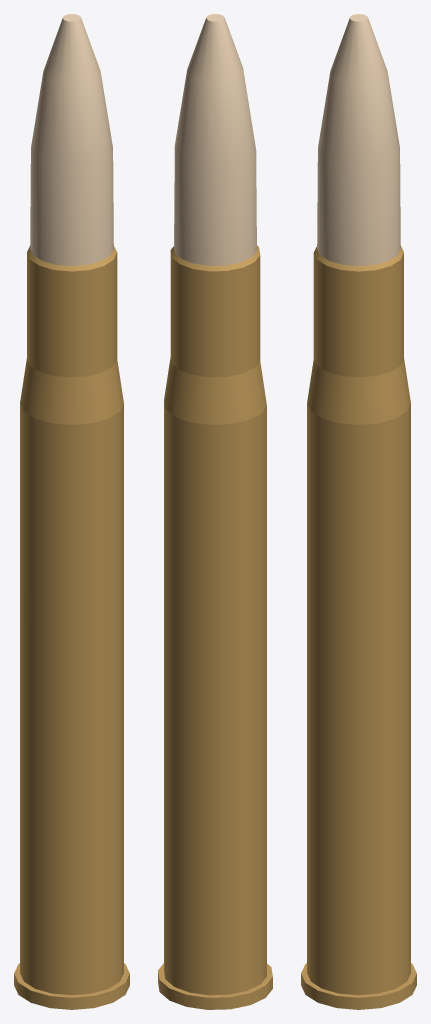
File: SM_Sniper-Round.fbx
3 views of the same model, side by side, from view 1: azimuth 90°, elevation 25°; view 2: azimuth 150°, elevation 25°; view 3: azimuth 270°, elevation 25° (orthographic).
Parts seen in each view (by area): view 1: pRound7_62mm; view 2: pRound7_62mm; view 3: pRound7_62mm.
Boxes of the visible parts, bbox=[...] form: pRound7_62mm: bbox=[14, 14, 129, 1009]; pRound7_62mm: bbox=[158, 14, 272, 1009]; pRound7_62mm: bbox=[301, 14, 416, 1009].
Bounding box in the file's own units: 1.85 × 17.06 × 1.85.
